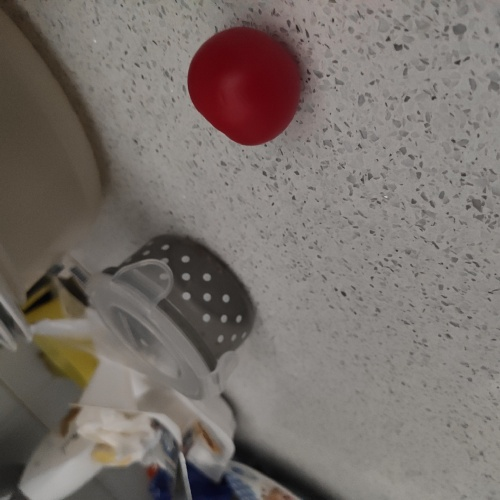pomodoro: (180, 24, 313, 156)
